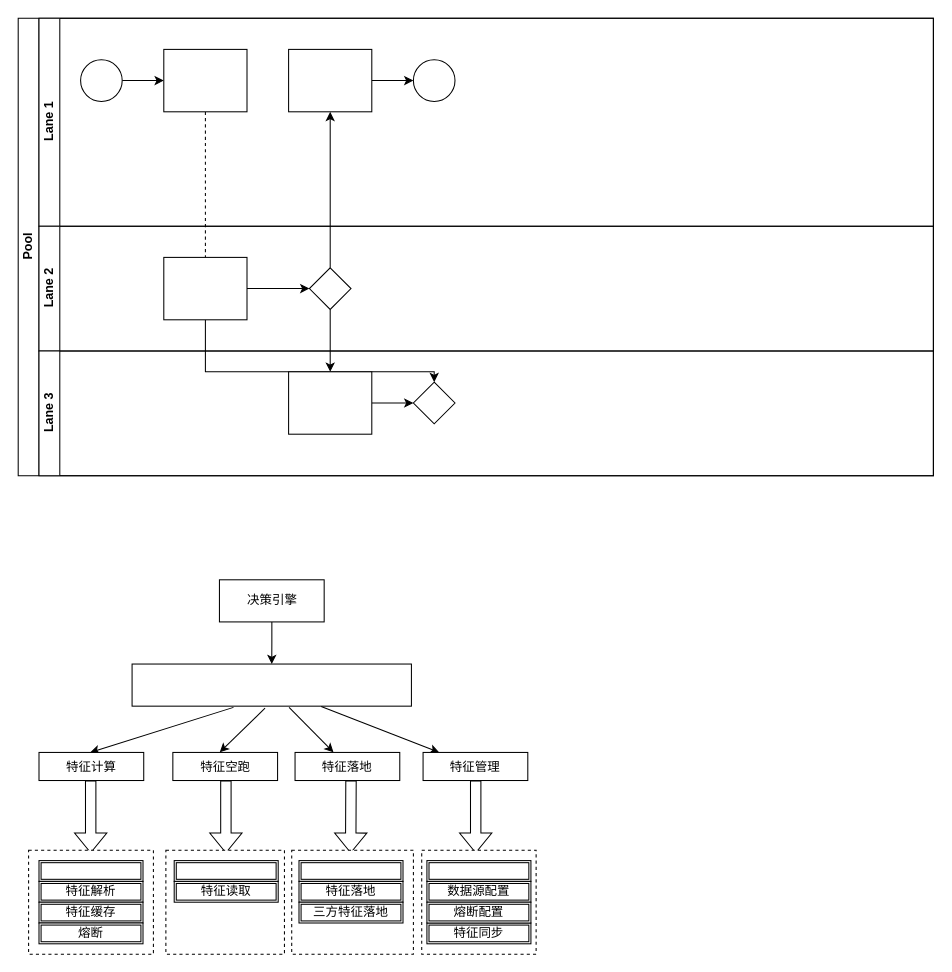
The diagram is 952 pixels wide and 972 high, and some of its shapes have lost their labels. The centre of each missing label's shape, as x and y in pixels:
"数据源响应落地" goes at point 350,870.
"数据源处理" goes at point 90,870.
"特征服务" goes at point 271,684.
"特征源数据加载" goes at point 225,870.
"特征配置" goes at point 478,870.
